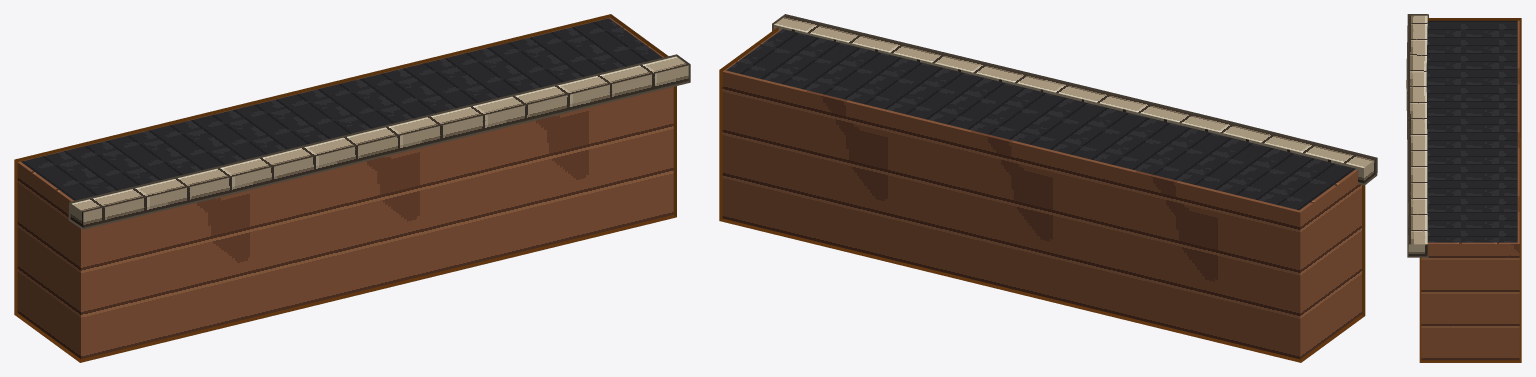
The model's file is Block_2.glb.
3 renders of one model, left to right at view 1: azimuth 30°, elevation 25°; view 2: azimuth 150°, elevation 25°; view 3: azimuth 270°, elevation 25°, orthographic. The views are drawn at different scales.
Visible parts, largest first — view 1: Block_2; view 2: Block_2; view 3: Block_2.
Boxes of the visible parts, x1,y1,x2,y2 form: Block_2: (14, 14, 690, 362); Block_2: (719, 14, 1377, 362); Block_2: (1406, 14, 1521, 362).
Size of the model in its own units: 14.37 by 3.56 by 3.05.
Materials: 5 (3 with a texture image).
